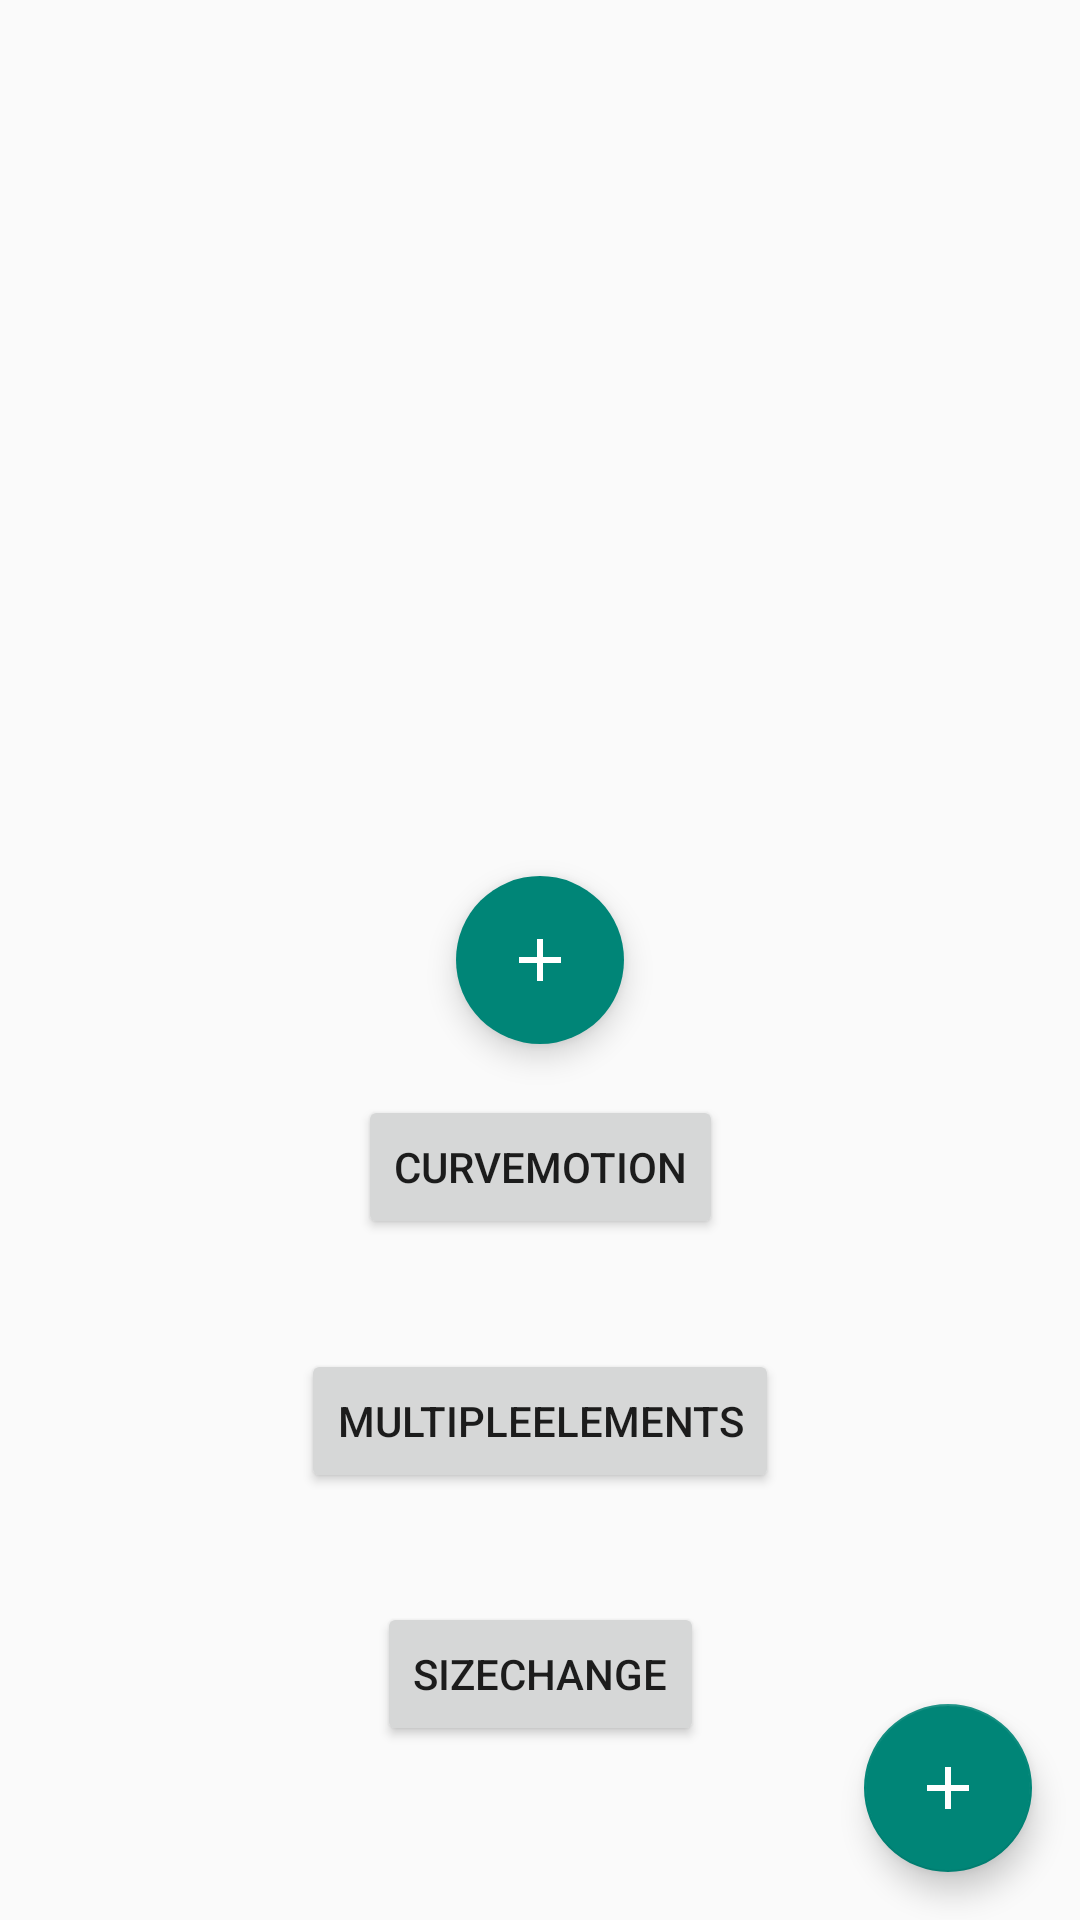

Where to tap for icons on this 1080x1920 app screen, as [x,y]:
fab plus: [540,960], [948,1788]
